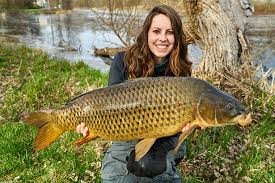carp: (24, 76, 254, 162)
